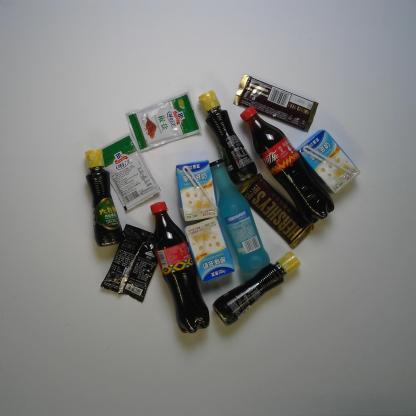Alcohol: (209, 158, 270, 274)
Chocolate: (240, 172, 316, 250), (232, 74, 319, 134)
Drink: (239, 105, 334, 224), (150, 201, 210, 334)
Instant Drink: (100, 224, 158, 303)
Milk: (295, 128, 362, 194), (184, 216, 234, 284), (175, 160, 218, 221)
Seasoner: (212, 252, 300, 327), (197, 90, 257, 182), (126, 90, 202, 152), (100, 134, 160, 212), (84, 148, 124, 247)
